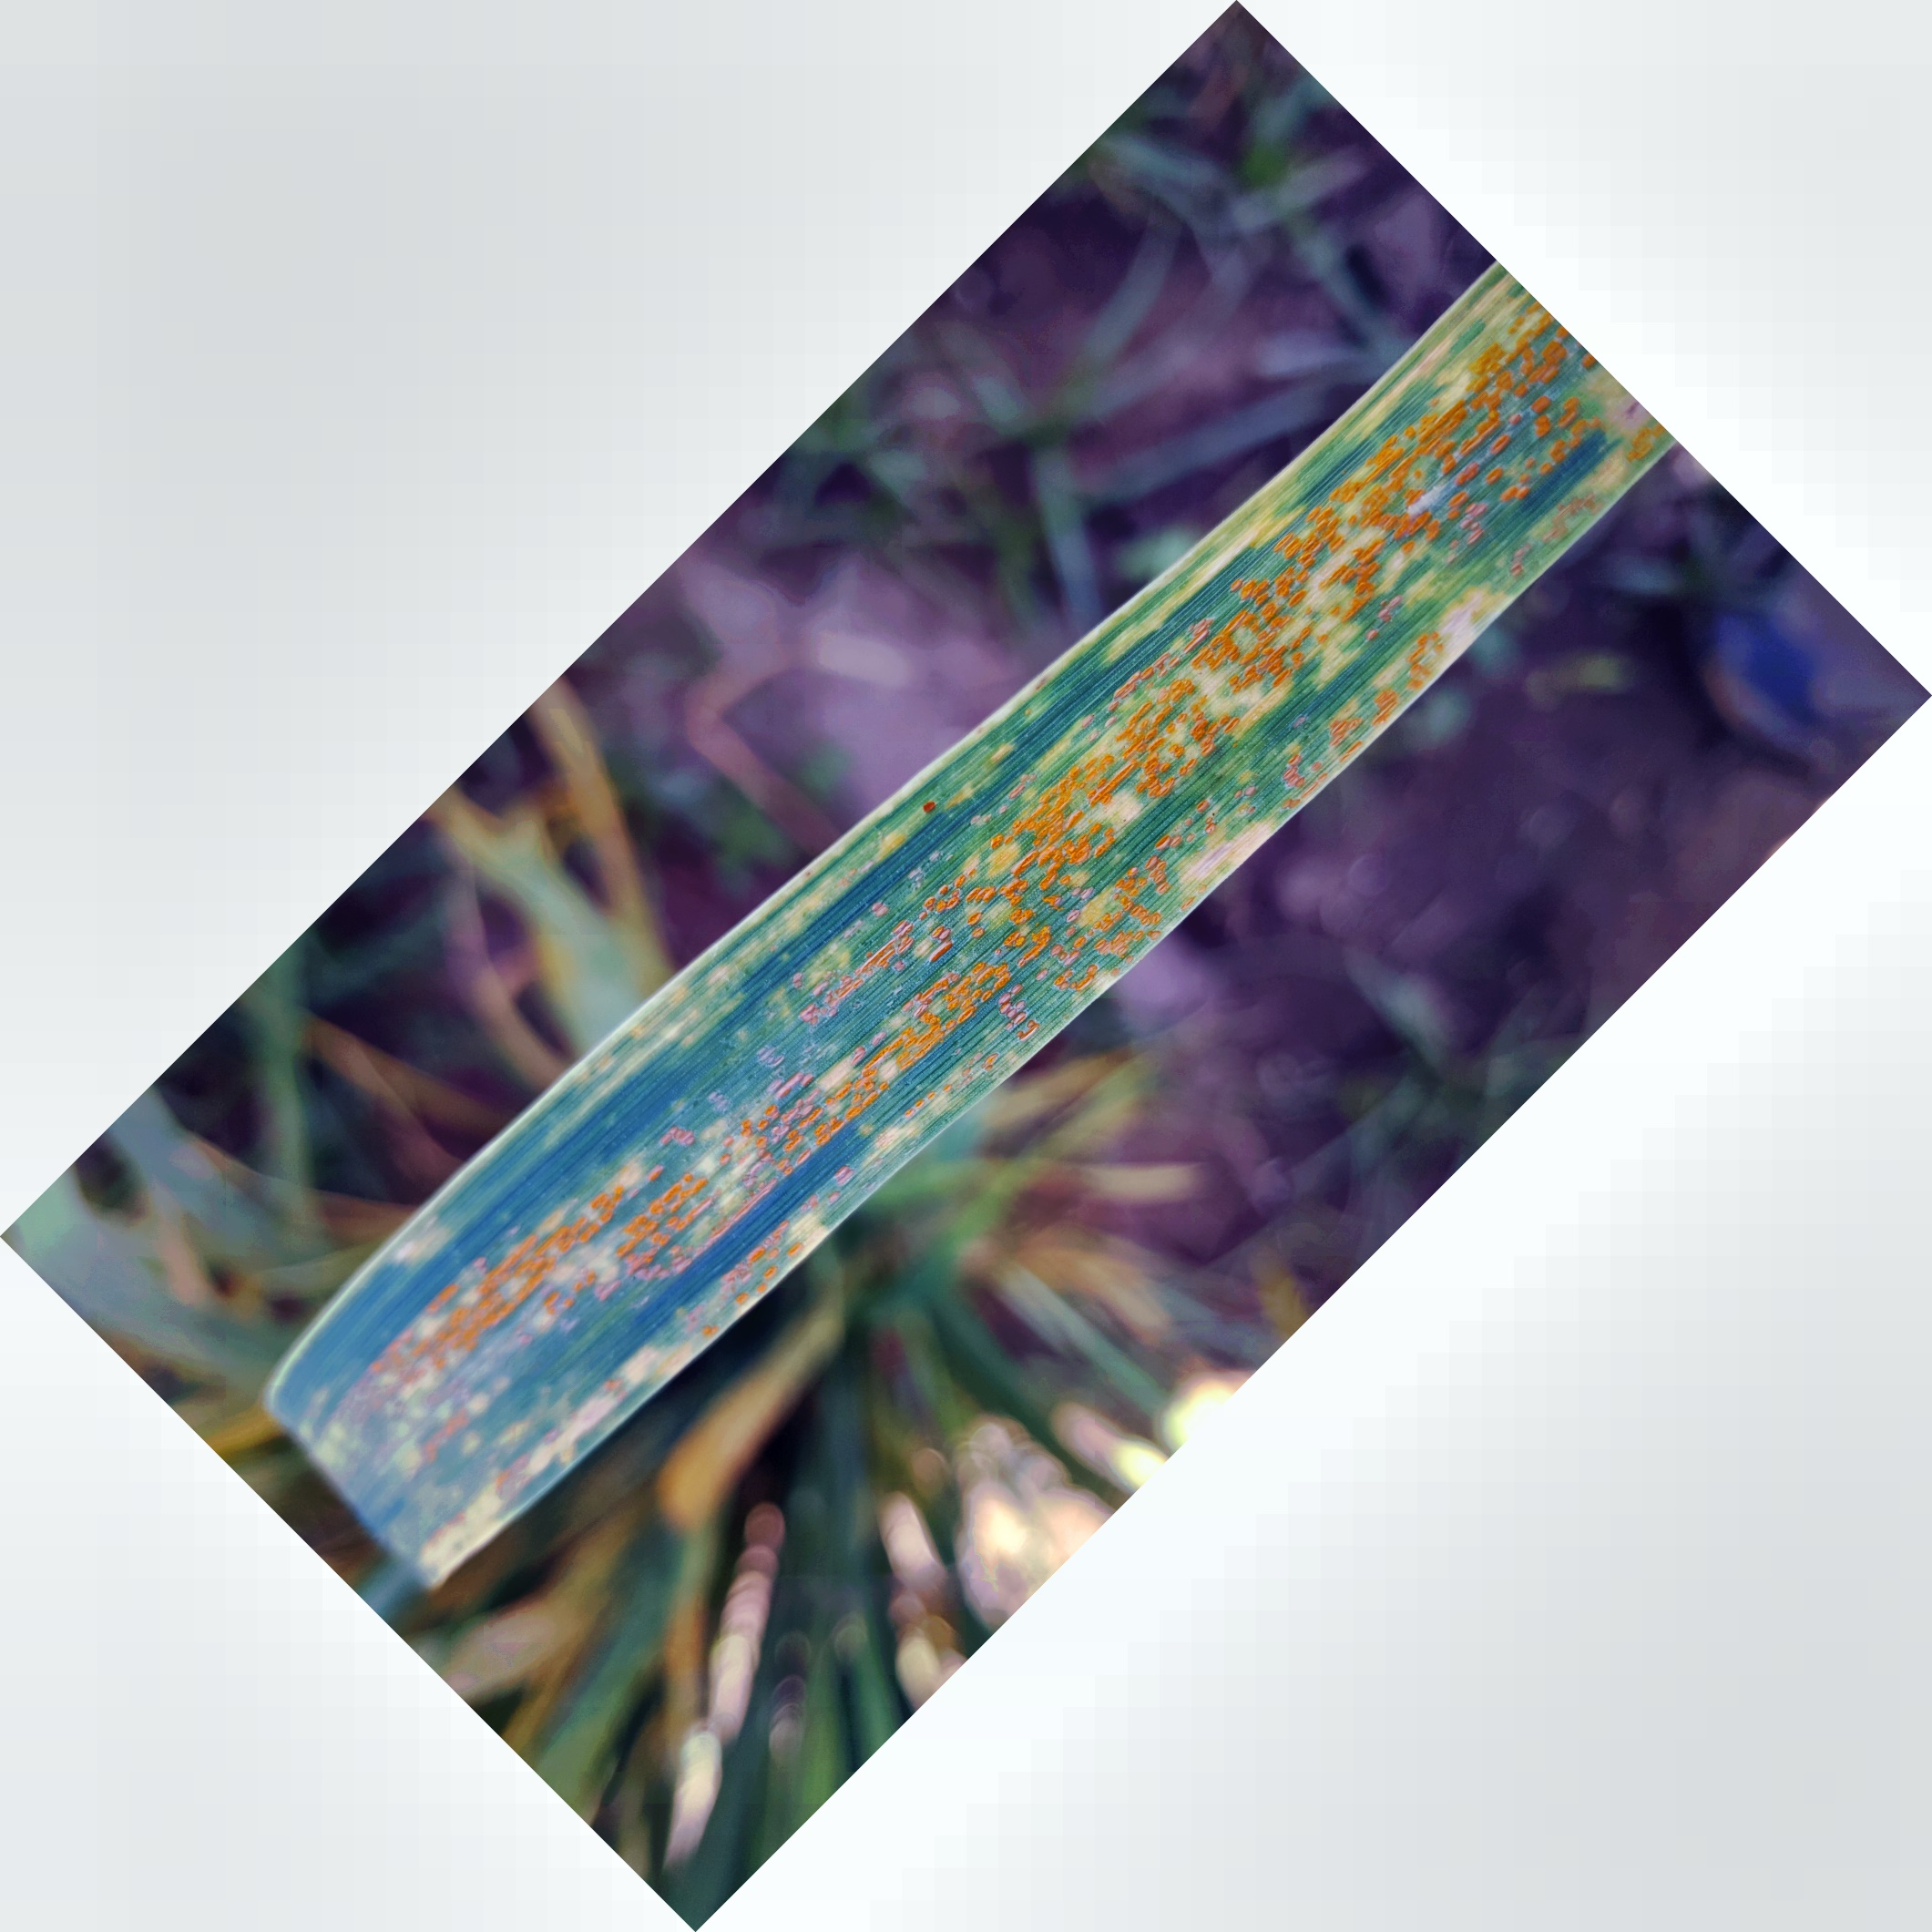Leaf Rust: (442, 338, 1610, 1415)
